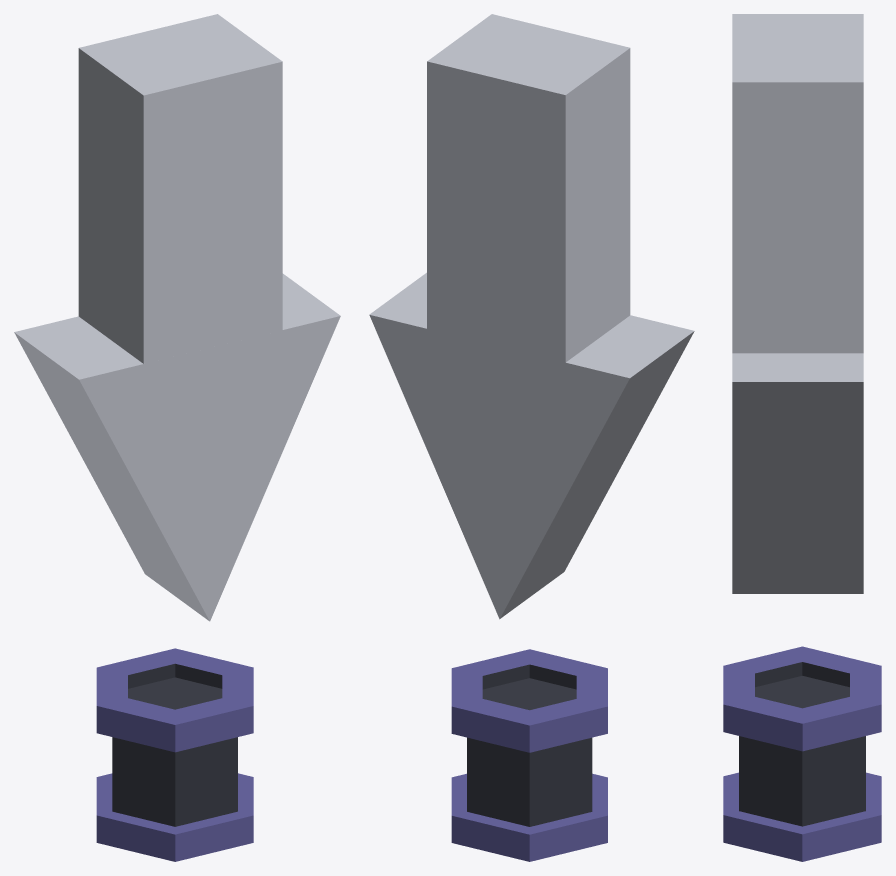
Rendered from SlowBoost.fbx.
3 views of the same model, side by side, from view 1: azimuth 30°, elevation 25°; view 2: azimuth 150°, elevation 25°; view 3: azimuth 270°, elevation 25° (orthographic).
Visible parts, largest first — view 1: block, blockTriangle, clipBarrel_small; view 2: block, blockTriangle, clipBarrel_small; view 3: block, blockTriangle, clipBarrel_small.
Boxes of the visible parts, bbox=[...] form: block: bbox=[78, 14, 282, 363]; blockTriangle: bbox=[14, 273, 340, 621]; clipBarrel_small: bbox=[96, 648, 253, 861]; block: bbox=[427, 14, 630, 389]; blockTriangle: bbox=[369, 272, 694, 619]; clipBarrel_small: bbox=[451, 649, 607, 861]; block: bbox=[732, 14, 863, 353]; blockTriangle: bbox=[732, 353, 863, 593]; clipBarrel_small: bbox=[723, 646, 881, 861].
Size of the model in its own units: 10 by 28.1 by 5.2.
